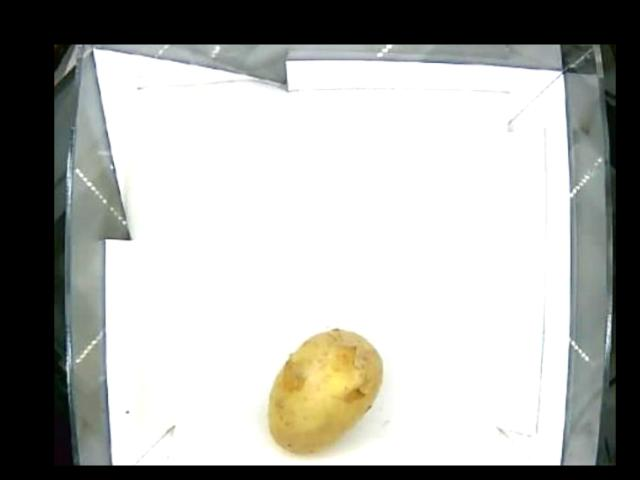Potato: (266, 327, 383, 455)
